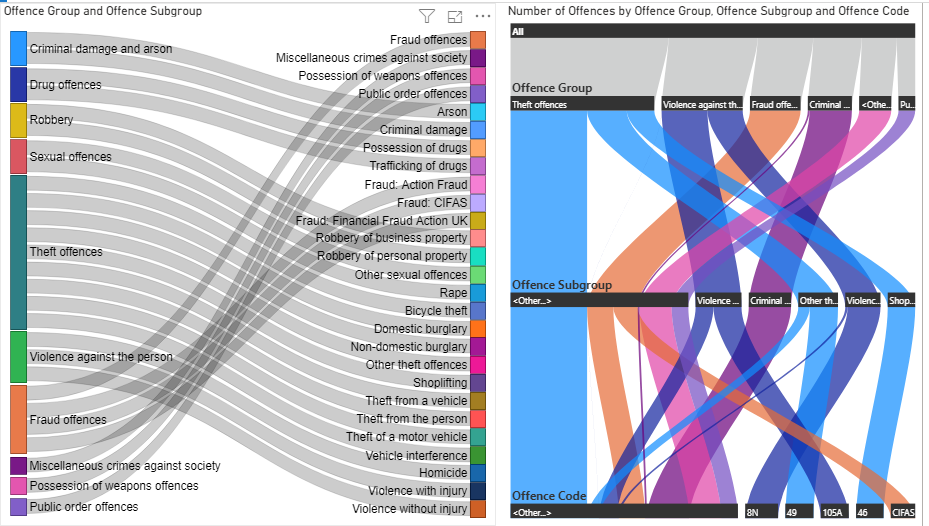

Layout of this report page (visuals, bound fields, positions):
{"tool":"powerbi","page":{"name":"Page 2","canvas":[1280,720],"ordinal":9},"visuals":[{"type":"SankeyDiagram1446463184954","fields":{"Source":["2015-16.Offence Group"],"Destination":["2015-16.Offence Subgroup"]},"box":[10.6,0,683.8,720],"z":0},{"type":"wishyoulizationtassels","fields":{"fields":["2015-16.Offence Group","2015-16.Offence Subgroup","2015-16.Offence Description Hierarchy.Offence Code"],"value":["Sum(2015-16.Number of Offences)"]},"box":[705,0,575,720],"z":1000}]}

Visuals, with their boxes in screenshot pixels (x1, y1, x2, y2), scaled from the page's 1280x720 canvas onto the 929x526 screenshot:
SankeyDiagram1446463184954 - 2015-16.Offence Group x 2015-16.Offence Subgroup: l=8, t=0, r=504, b=525
wishyoulizationtassels - 2015-16.Offence Group x 2015-16.Offence Subgroup: l=512, t=0, r=928, b=525
